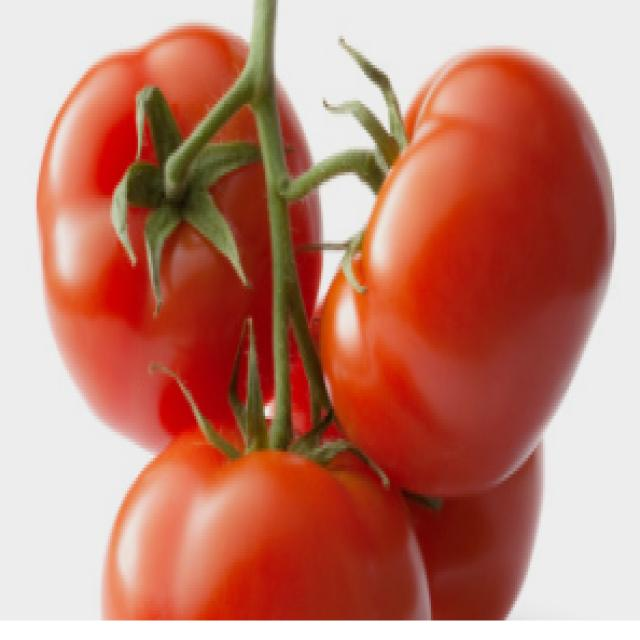Tomato: (28, 49, 332, 417), (339, 64, 593, 482)
